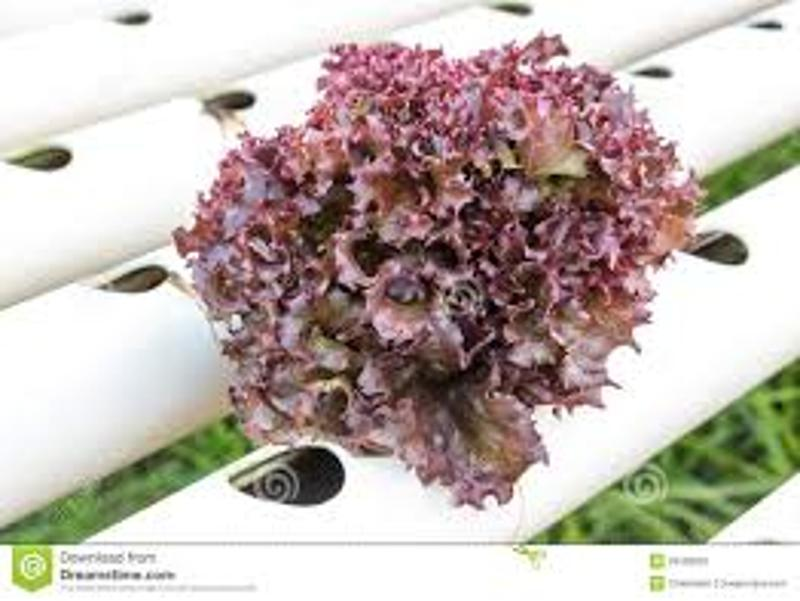red lettuce: (213, 30, 671, 477)
